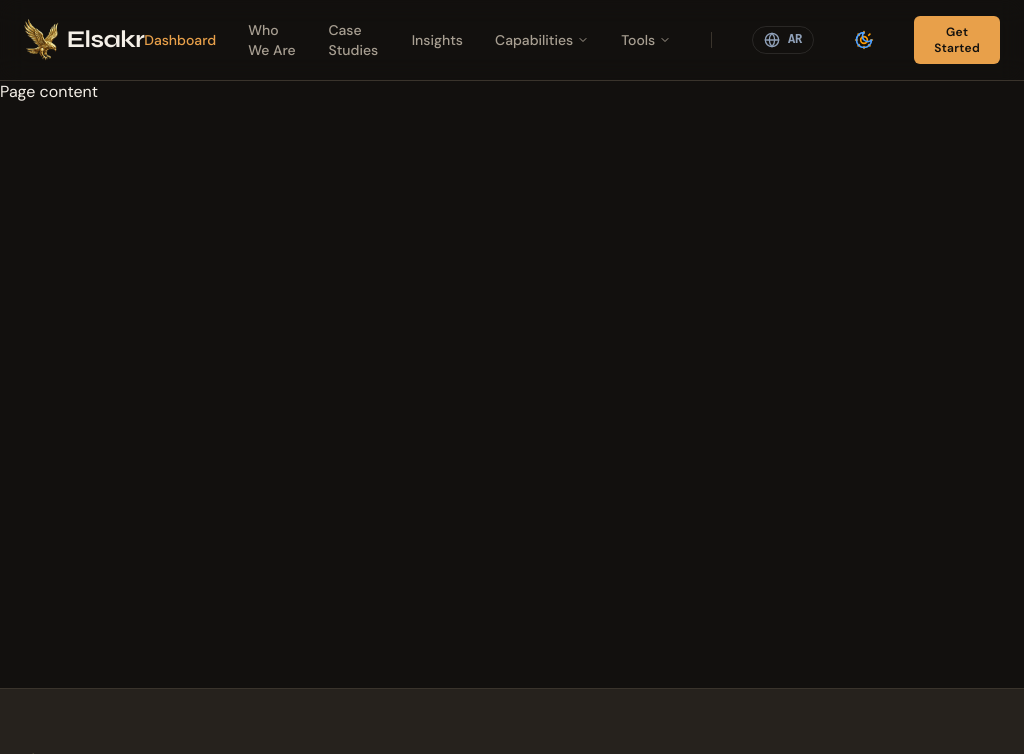
Test: Layout › shows desktop services and tools mega menus on hover
Hover over the element showing "Capabilities".
mouse_move(542, 40)  # box [495,31,589,49]
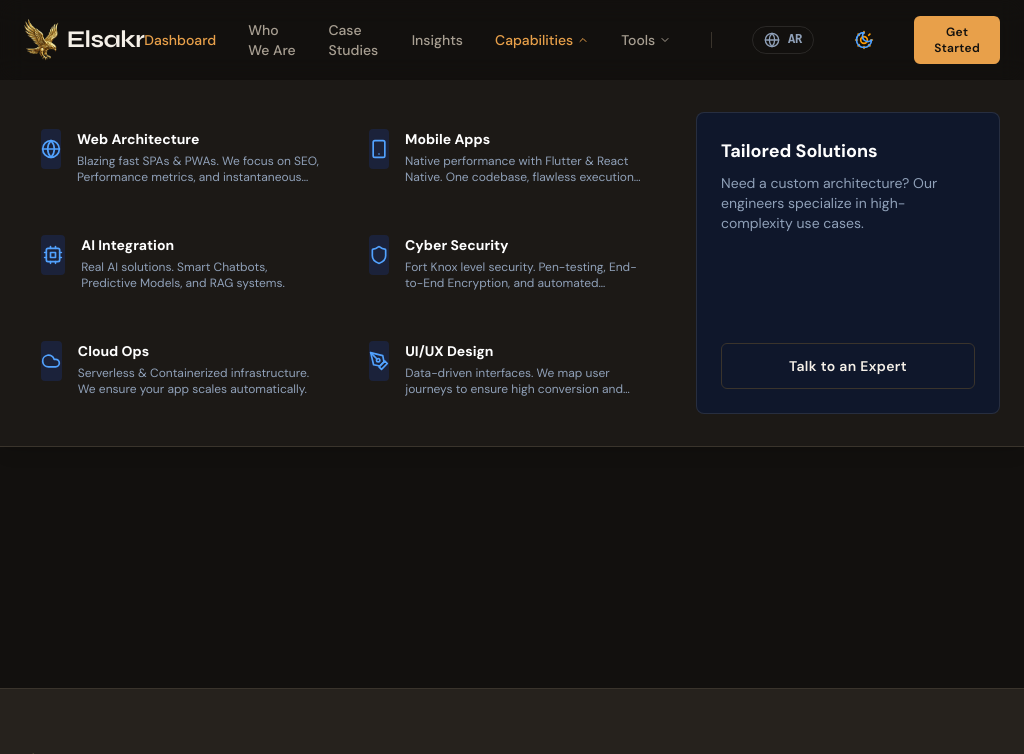
Expected: the element with test id "services-mega-menu" is shown, [0,80,1023,447]
Expected: the heading "Tailored Solutions" is shown, [721,139,878,163]
Expected: the heading "Web Architecture" is shown, [77,130,199,148]
Hover over the element showing "Tools".
mouse_move(646, 40)  # box [621,31,671,49]
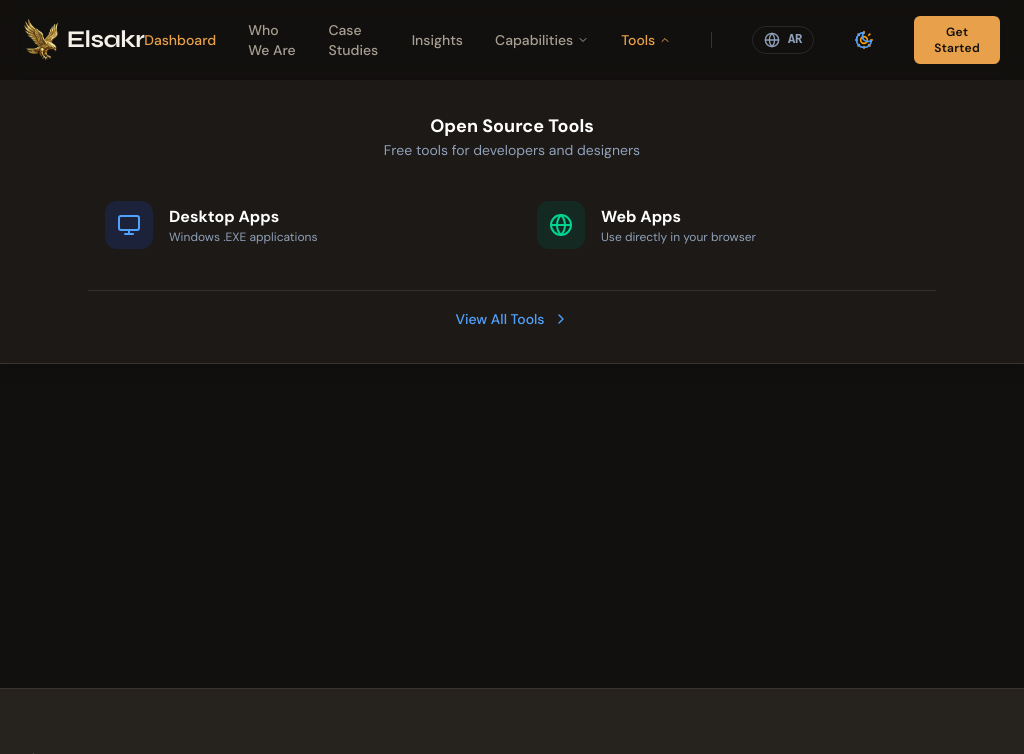
Expected: the element with test id "tools-mega-menu" is shown, [0,80,1023,364]
Expected: the heading "Open Source Tools" is shown, [430,114,594,138]
Expected: the heading "Desktop Apps" is shown, [169,206,279,227]
